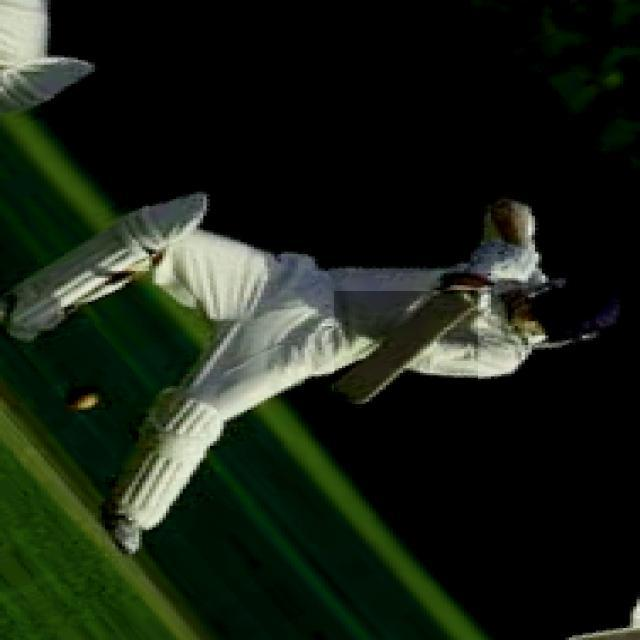bat: (335, 290, 486, 408)
toe: (333, 385, 359, 405)
